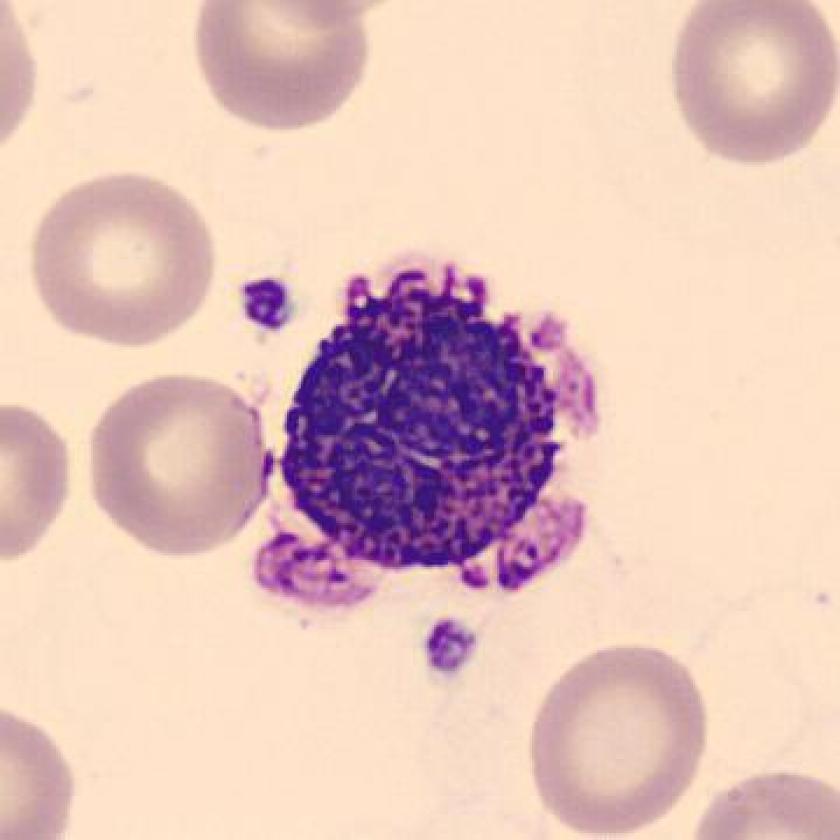basophil: (267, 263, 603, 614)
